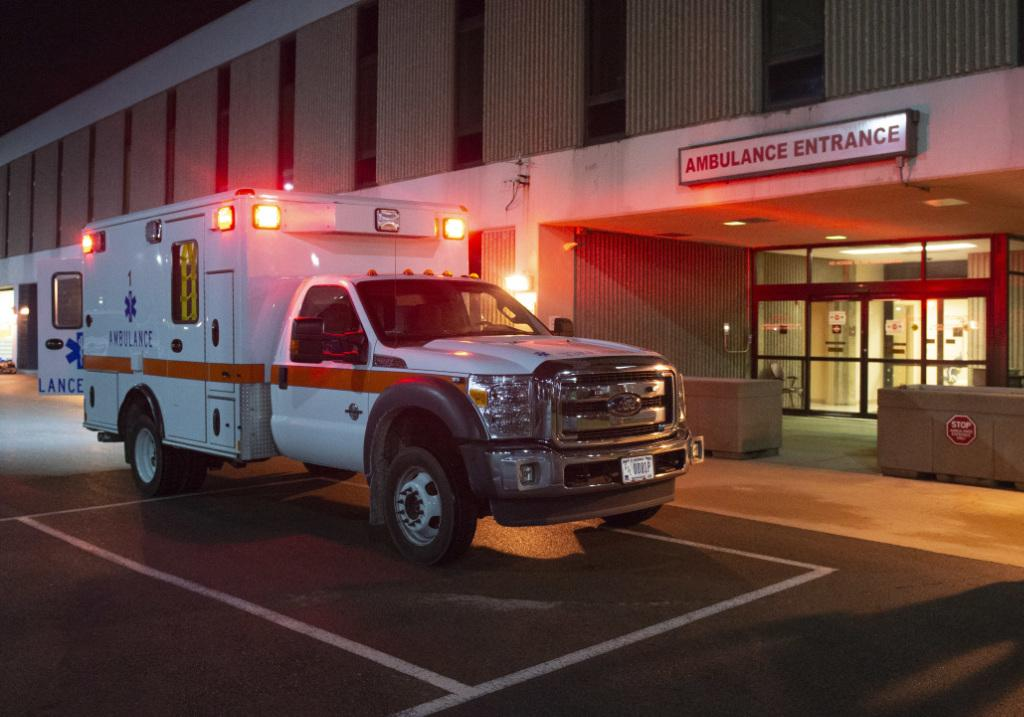ambulance_on: (34, 190, 705, 558)
